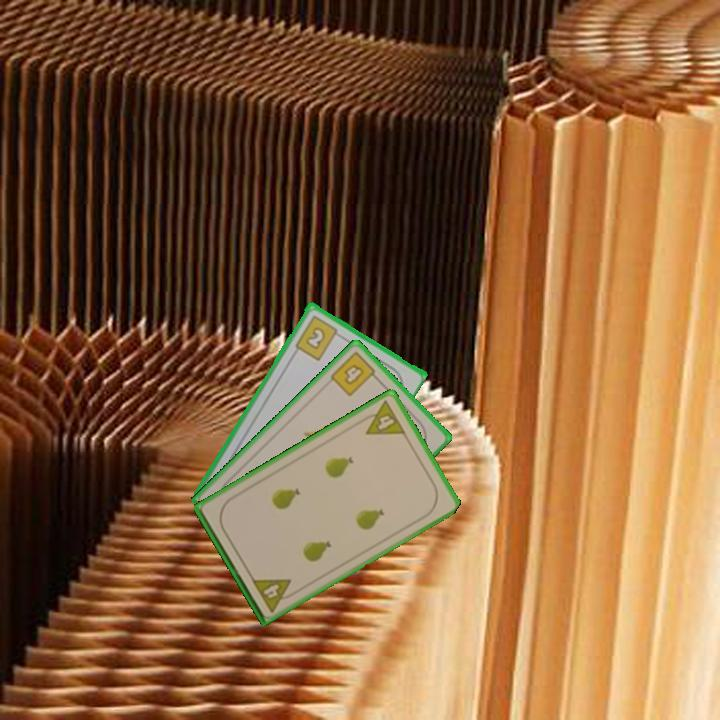2b: (291, 311, 344, 363)
4b: (327, 348, 382, 399)
4p: (356, 397, 409, 438), (248, 574, 300, 615)
